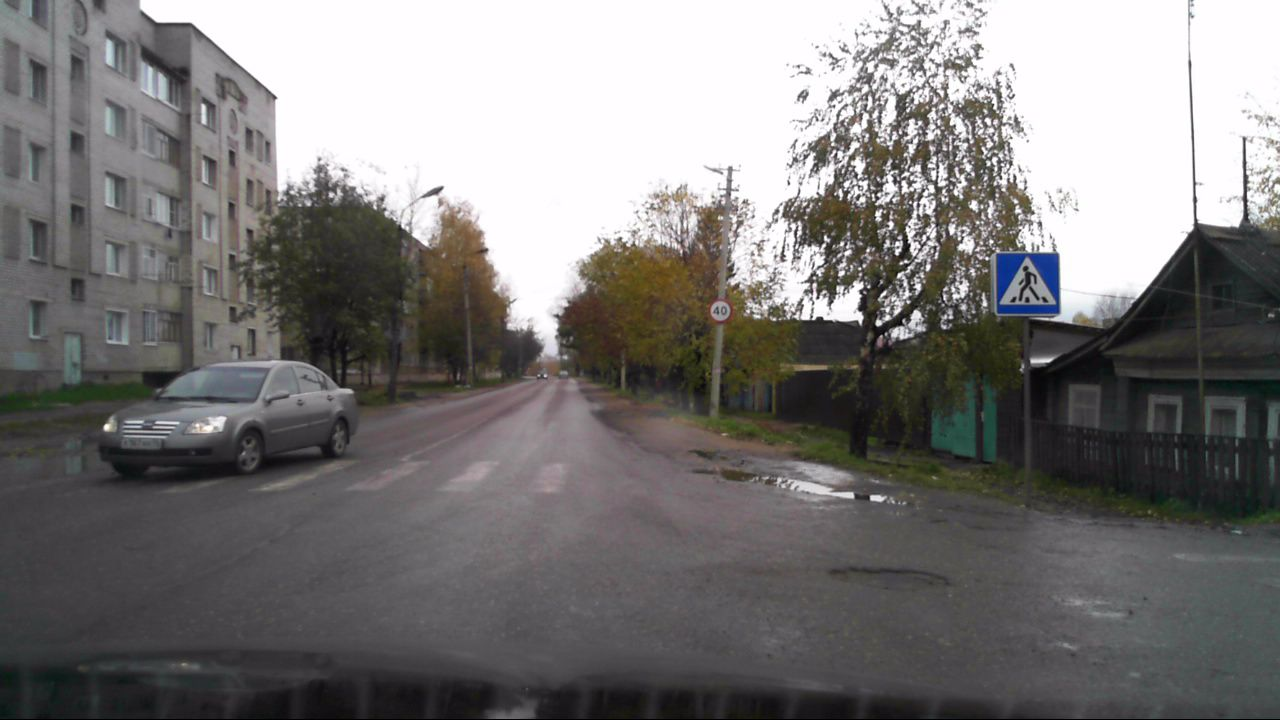speed_warning_40: (709, 300, 731, 323)
